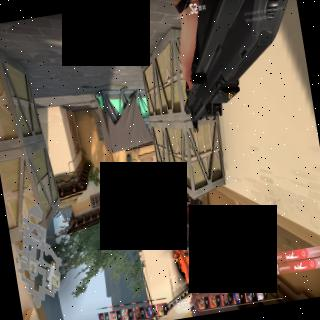ENEMY-BODY: (151, 156, 155, 164)
ENEMY-HEAD: (152, 161, 154, 164)
